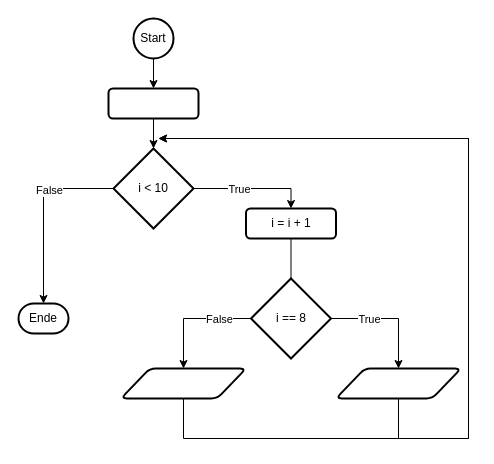
This 494x464 diagram has some shape labels left out. Each missing label, with the box of its shape:
Ausgabe "Katze": (334, 367, 462, 399)
Ausgabe i: (120, 367, 246, 399)
i = 5: (107, 87, 199, 119)
